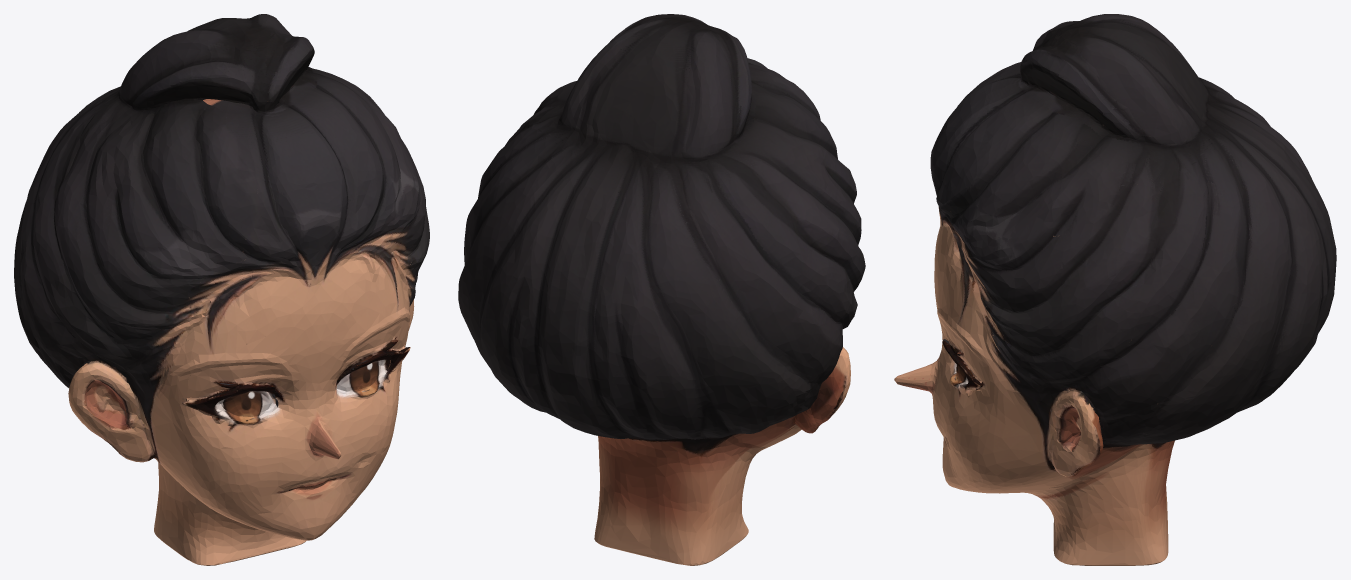
The model's file is side_kitchengirl_repaired_atlas.glb.
3 views of the same model, side by side, from view 1: azimuth 30°, elevation 25°; view 2: azimuth 150°, elevation 25°; view 3: azimuth 270°, elevation 25° (orthographic).
Parts seen in each view (by area): view 1: temp_mesh.ply; view 2: temp_mesh.ply; view 3: temp_mesh.ply.
Boxes of the visible parts, left/top/right/bottom form: temp_mesh.ply: left=14, top=14, right=429, bottom=565; temp_mesh.ply: left=458, top=14, right=865, bottom=565; temp_mesh.ply: left=894, top=14, right=1336, bottom=565.
Bounding box in the file's own units: 1.45 × 1.97 × 1.55.
Materials: 1 (1 with a texture image).
